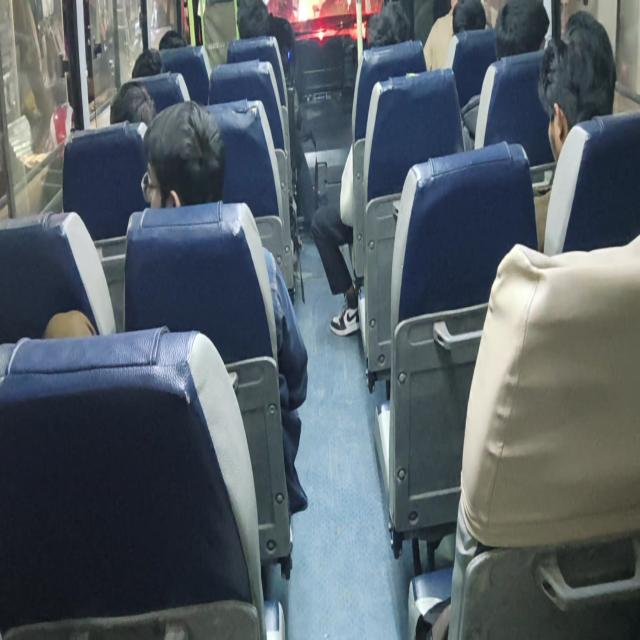person: (43, 98, 309, 516), (310, 4, 423, 336), (530, 9, 617, 252), (460, 0, 549, 149), (140, 100, 226, 210), (110, 81, 156, 127)
